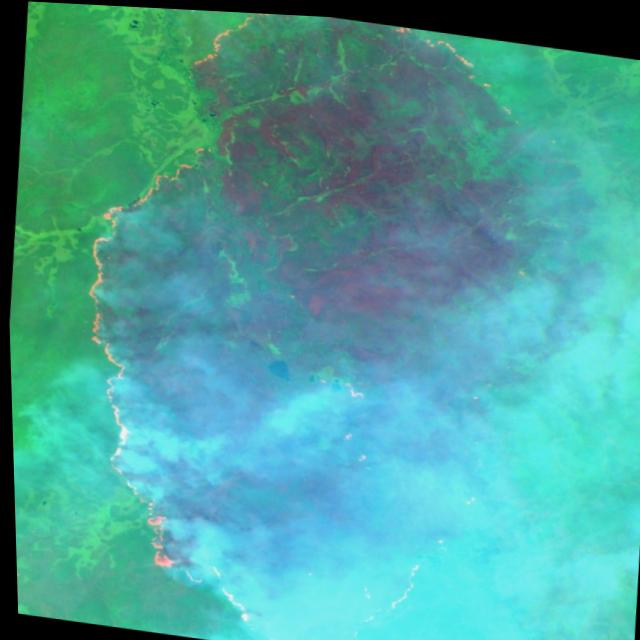fire: (48, 2, 537, 640)
